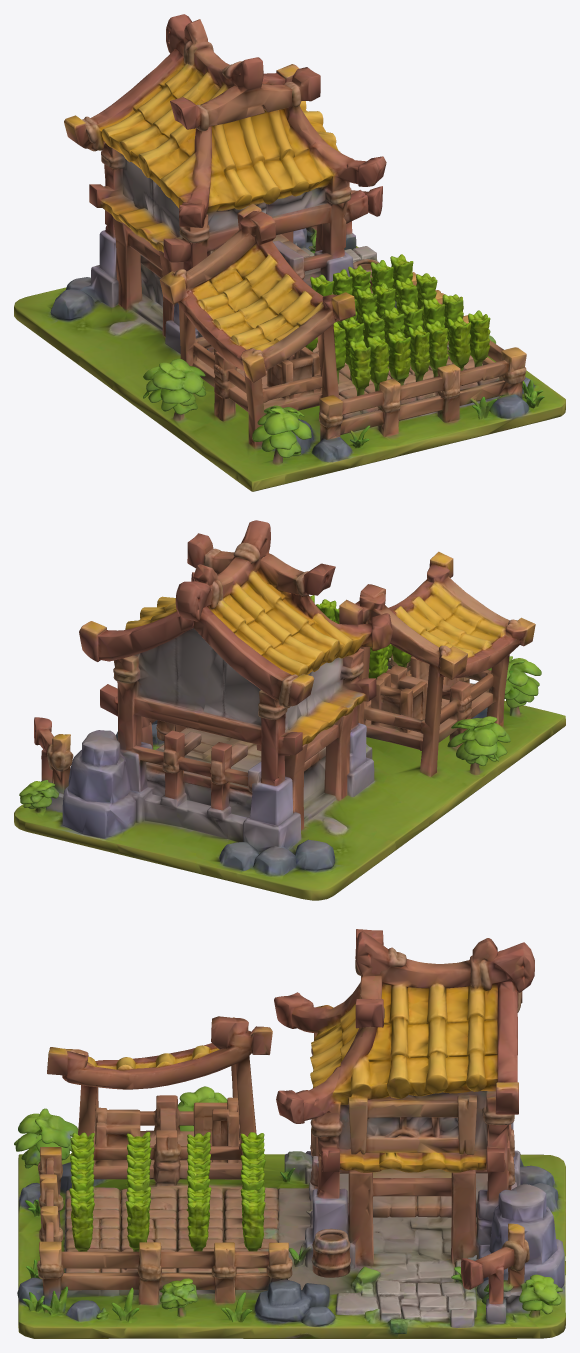
File: farm-house.glb
3 views of the same model, one above another, from view 1: azimuth 30°, elevation 25°; view 2: azimuth 150°, elevation 25°; view 3: azimuth 270°, elevation 25° (orthographic). The views are drawn at different scales.
Parts seen in each view (by area): view 1: tripo_node_bfdece98-5eb9-45ee-b94c-dceb5bc3e438; view 2: tripo_node_bfdece98-5eb9-45ee-b94c-dceb5bc3e438; view 3: tripo_node_bfdece98-5eb9-45ee-b94c-dceb5bc3e438.
Boxes of the visible parts, box(x1,y1,x2,y2) form: tripo_node_bfdece98-5eb9-45ee-b94c-dceb5bc3e438: box(14, 14, 565, 491); tripo_node_bfdece98-5eb9-45ee-b94c-dceb5bc3e438: box(14, 520, 565, 900); tripo_node_bfdece98-5eb9-45ee-b94c-dceb5bc3e438: box(14, 929, 565, 1338).
Bounding box in the file's own units: 0.8241 × 0.6284 × 0.9997.
Materials: 1 (1 with a texture image).
